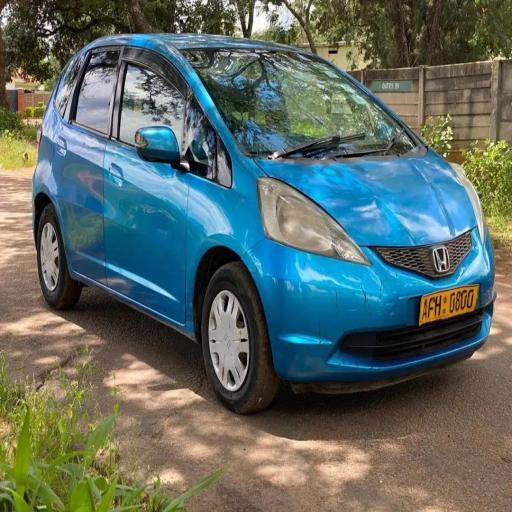number-plates: (420, 287, 481, 319)
